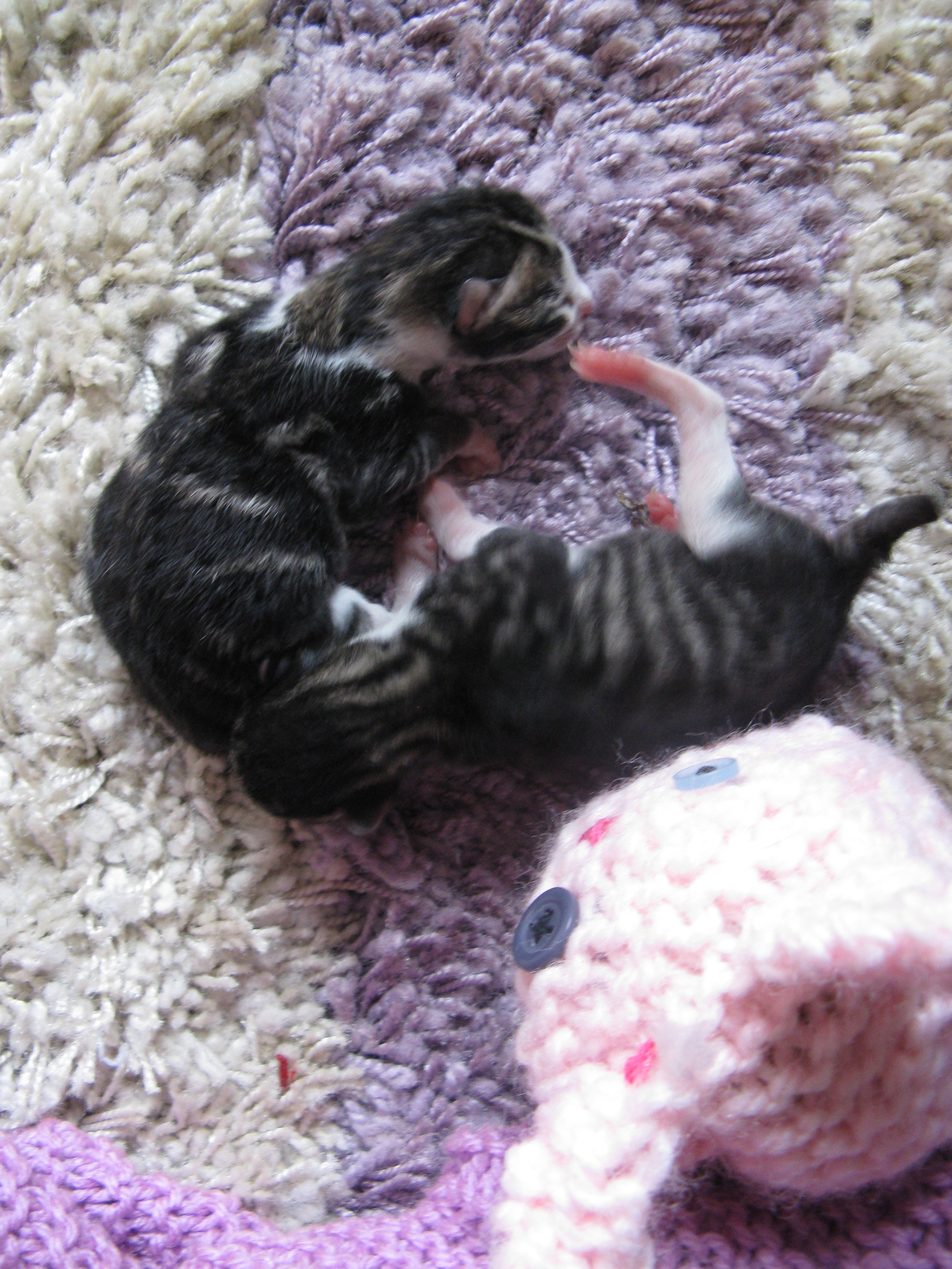cat: (253, 5, 627, 977), (139, 479, 580, 1161)
